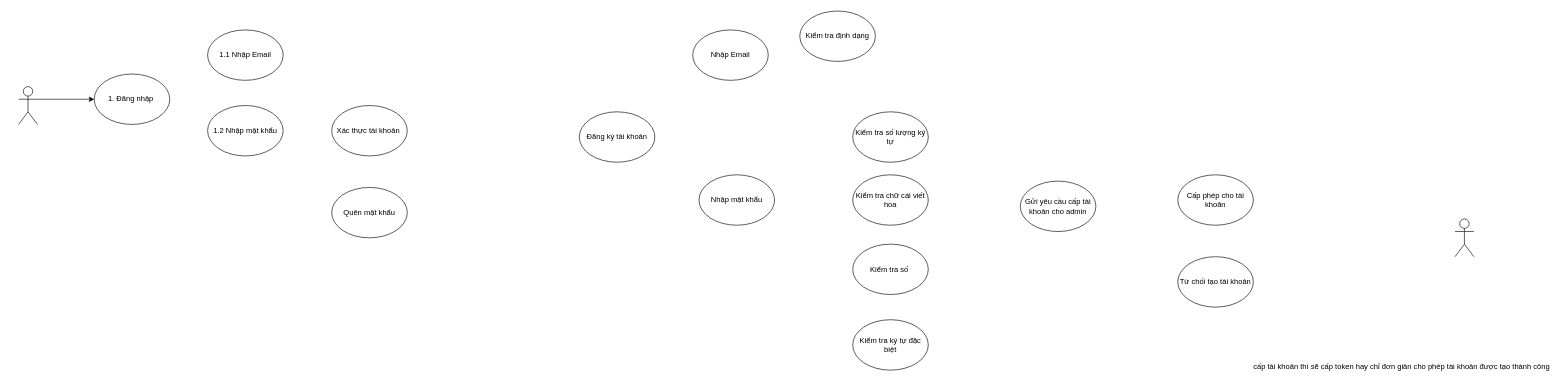
The diagram is 1567 pixels wide and 387 high, and some of its shapes have lost their labels. Each missing label, with the box of its shape:
Admin: (1454, 218, 1474, 257)
Nhân viên: (18, 86, 37, 124)
